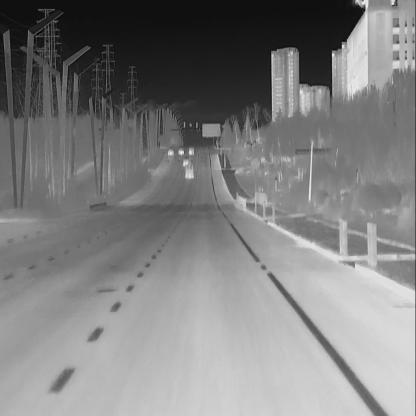car: (184, 162, 195, 179), (180, 157, 190, 167), (166, 146, 174, 158), (187, 146, 194, 156), (177, 147, 184, 156)
